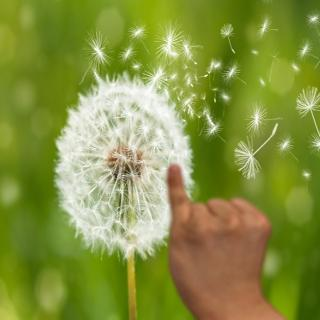FINE: (162, 162, 277, 305)
